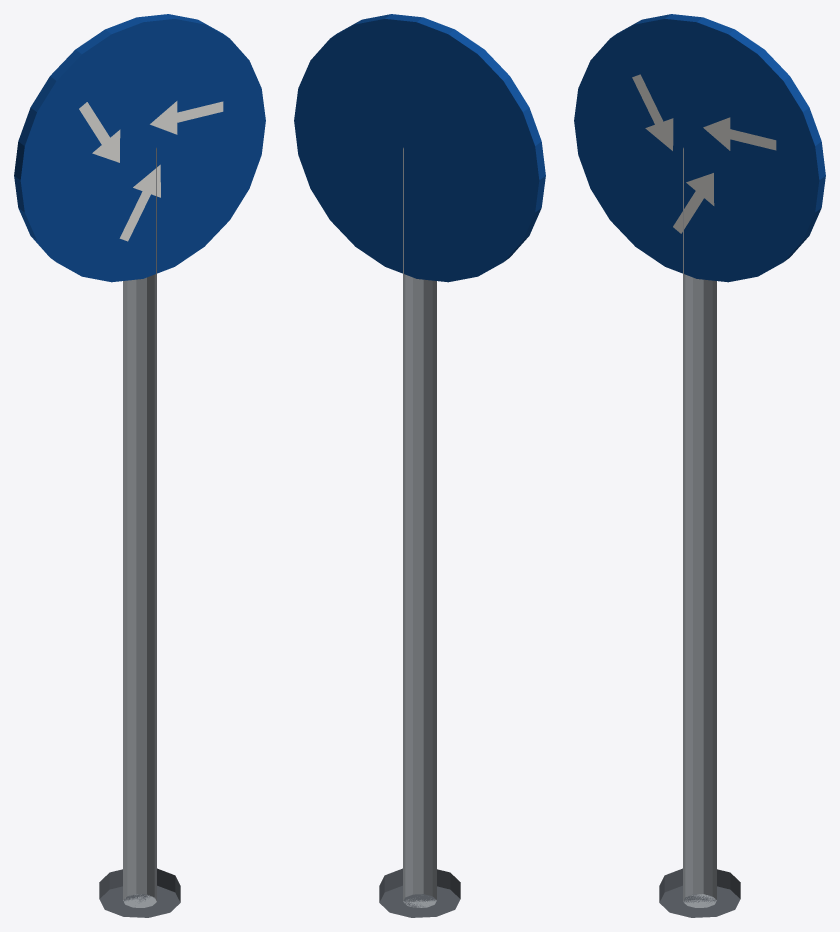
The model's file is sign-roundabout.glb.
3 renders of one model, left to right at view 1: azimuth 30°, elevation 25°; view 2: azimuth 150°, elevation 25°; view 3: azimuth 330°, elevation 25°, orthographic.
Visible parts, largest first — view 1: sign-roundabout; view 2: sign-roundabout; view 3: sign-roundabout.
Part boxes in pixels (x1,y1,x2,y2): sign-roundabout: (14, 14, 265, 917); sign-roundabout: (294, 14, 545, 917); sign-roundabout: (574, 14, 825, 917).
Bounding box in the file's own units: 0.75 × 2.58 × 0.2054.
